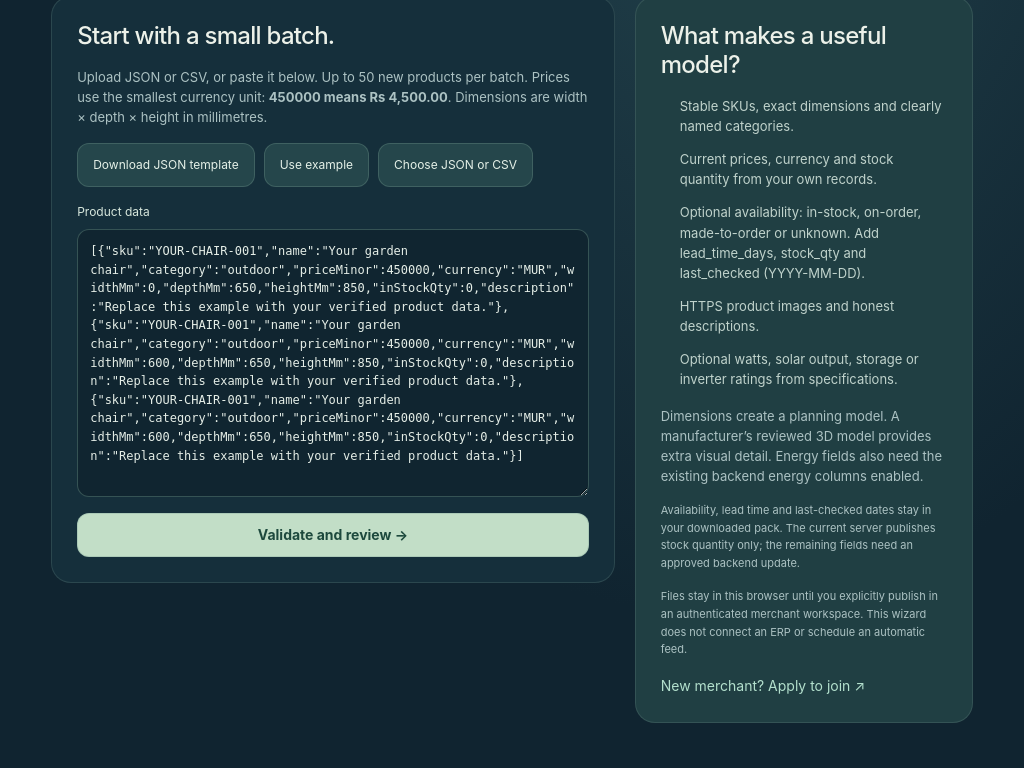
Test: merchant connection preparation › does not allow invalid dimensions or duplicate SKUs through review
The width and height of the screenshot is (1024, 768).
(page scrolled)
Click the button "Validate and review →".
click(333, 535)  # box [77,513,589,557]
(page scrolled)
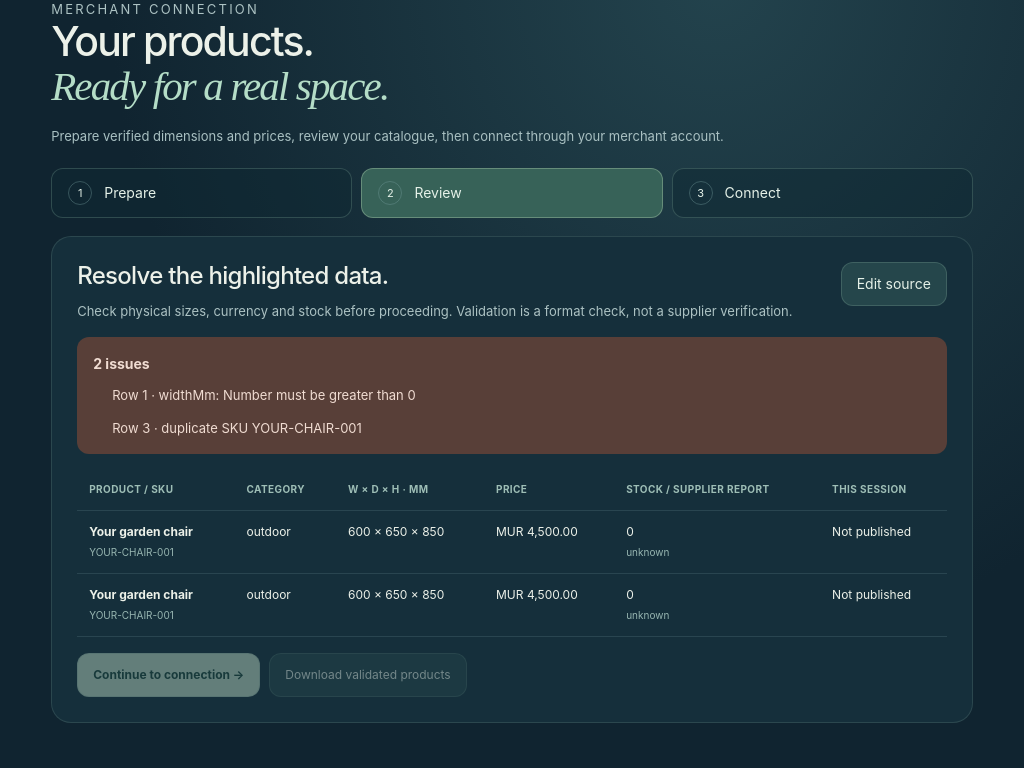
Check: the message shows "widthMm", box [112,387,416,403]
Check: the message shows "duplicate SKU", box [112,420,362,436]
Check: the button "Continue to connection →" is disabled, box [77,653,260,697]
